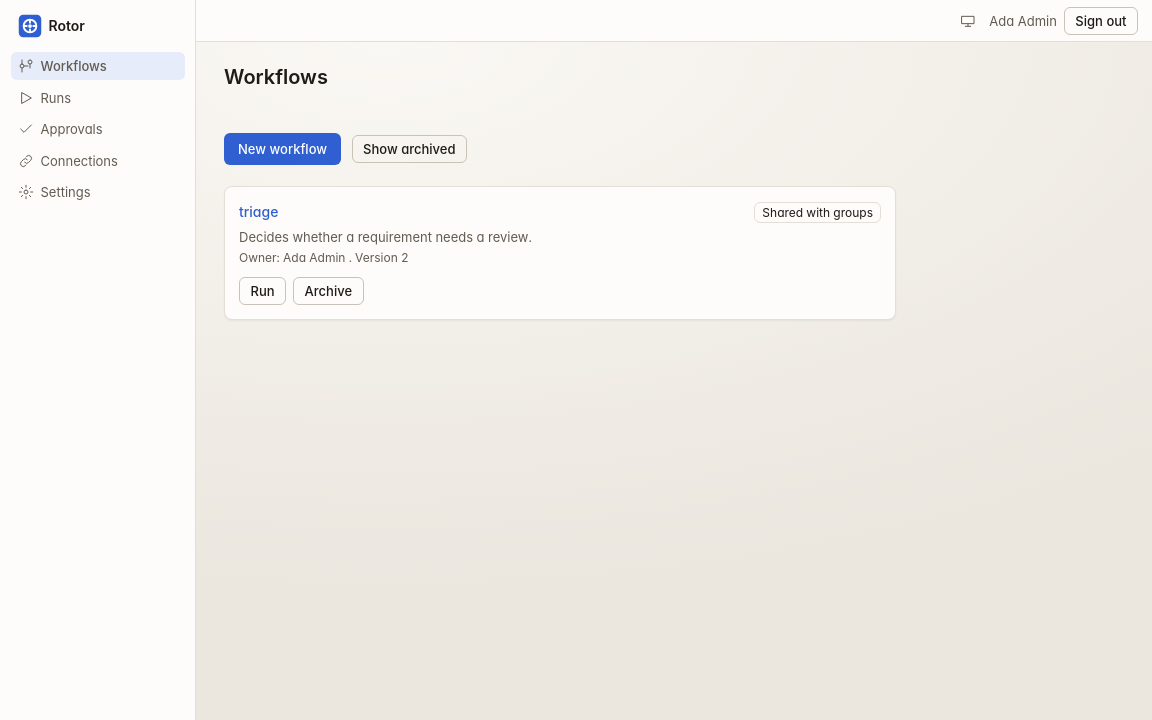
Test: the workflows › are listed with their sharing, and archived after a confirmation
Expected: the text "Shared with groups" is shown, [754,202,881,223]
Step 1. Click the button "Archive" → (328, 291), box [293,277,364,305]
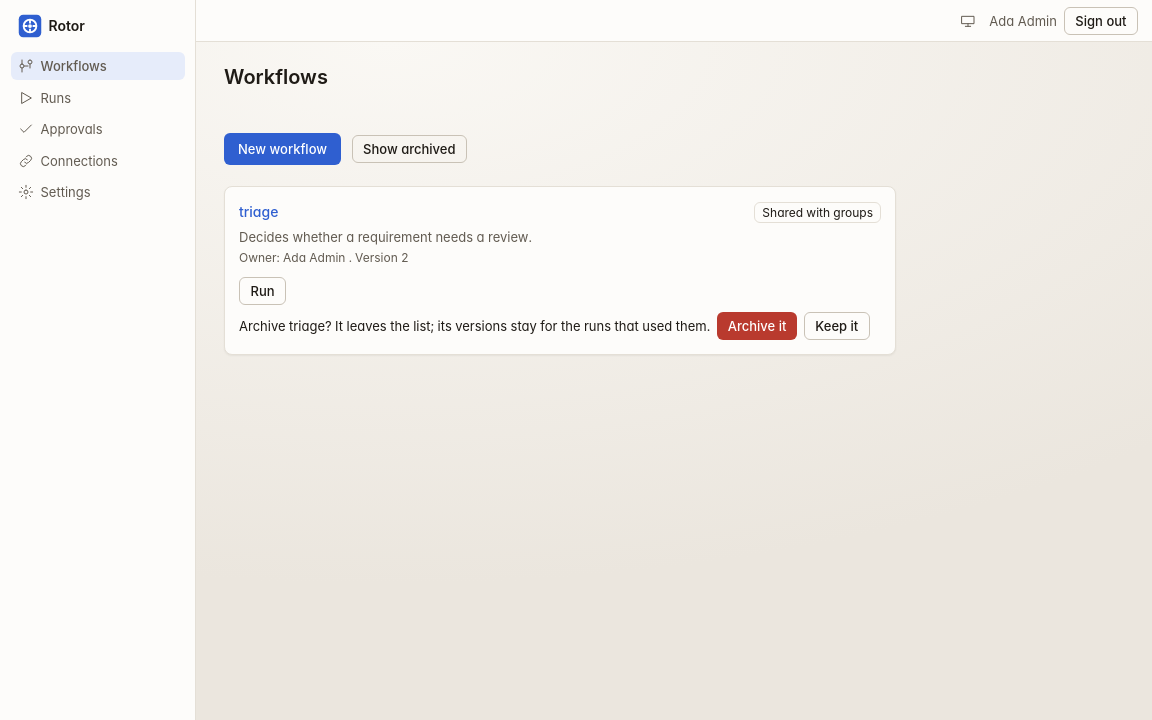
Step 2. Click the button "Archive it" → (757, 326), box [717,312,797,340]
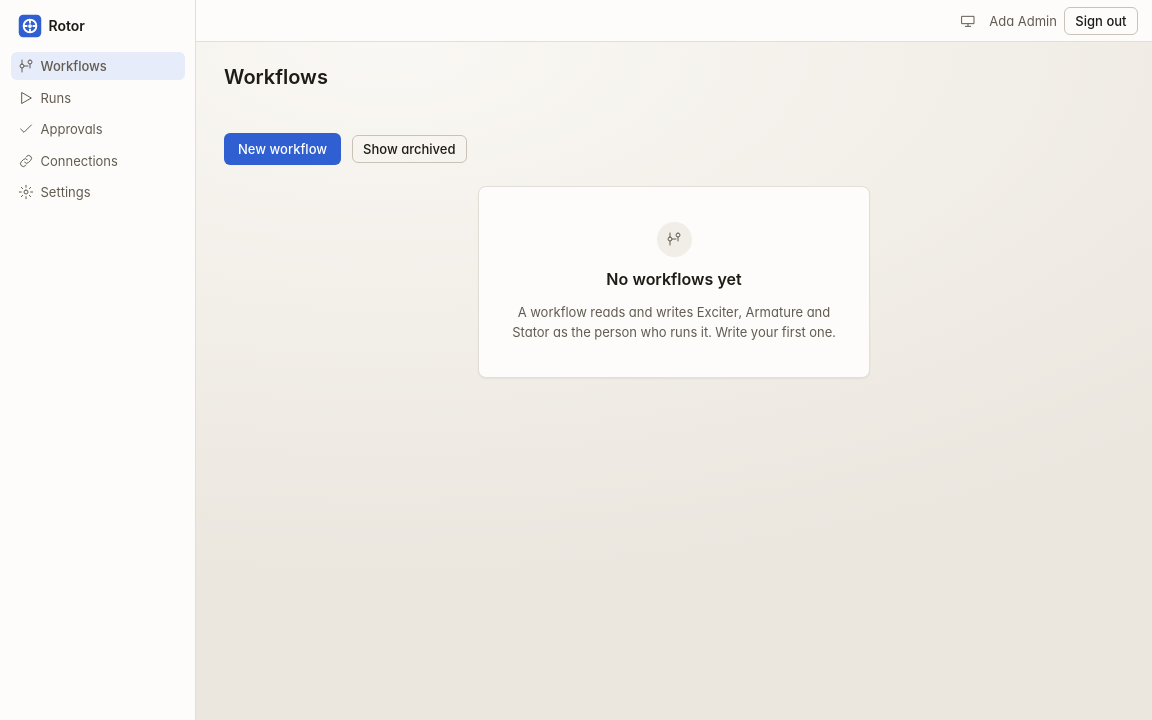
Expected: the heading "No workflows yet" is shown, [606,267,742,291]
